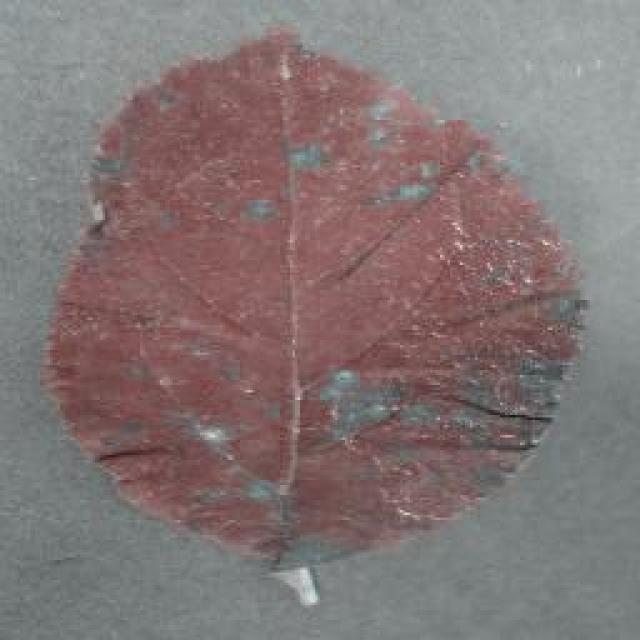apple scab disease: (38, 20, 588, 592)
